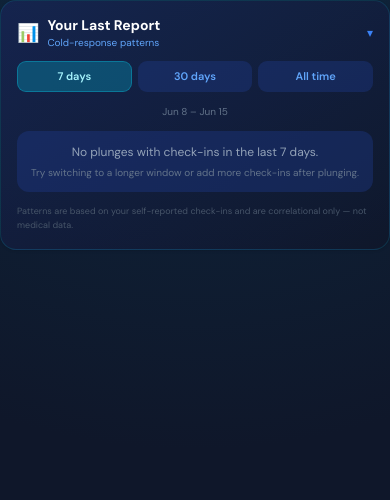
Test: DiscoveryReportCard — All-time date range label (same year: 'Mon D – Mon D') › All-time date range label uses 'Mon D – Mon D' format when all sessions are within the current year
Click the button "All time": (316, 76) [258,61,373,92]
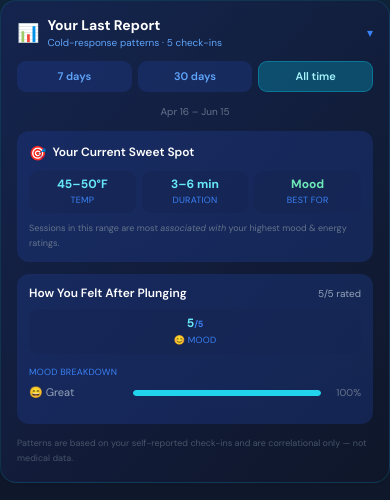
Expected: the text "Apr 16 – Jun 15" is shown, [160,104,230,118]
